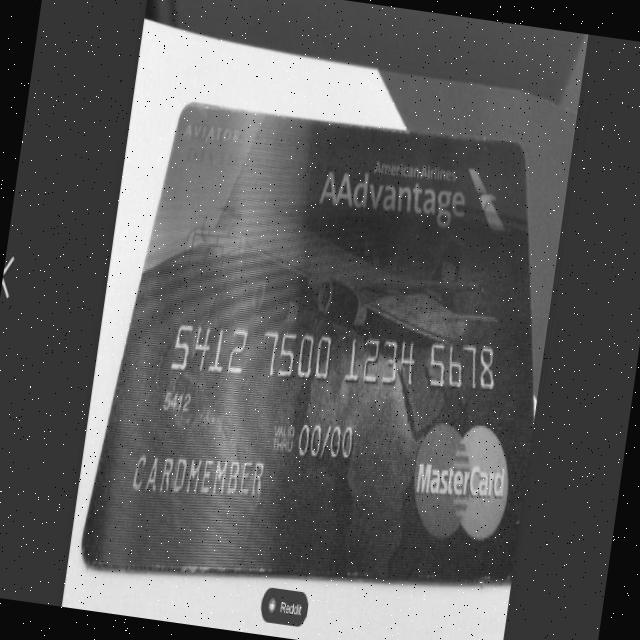card: (83, 84, 589, 619)
